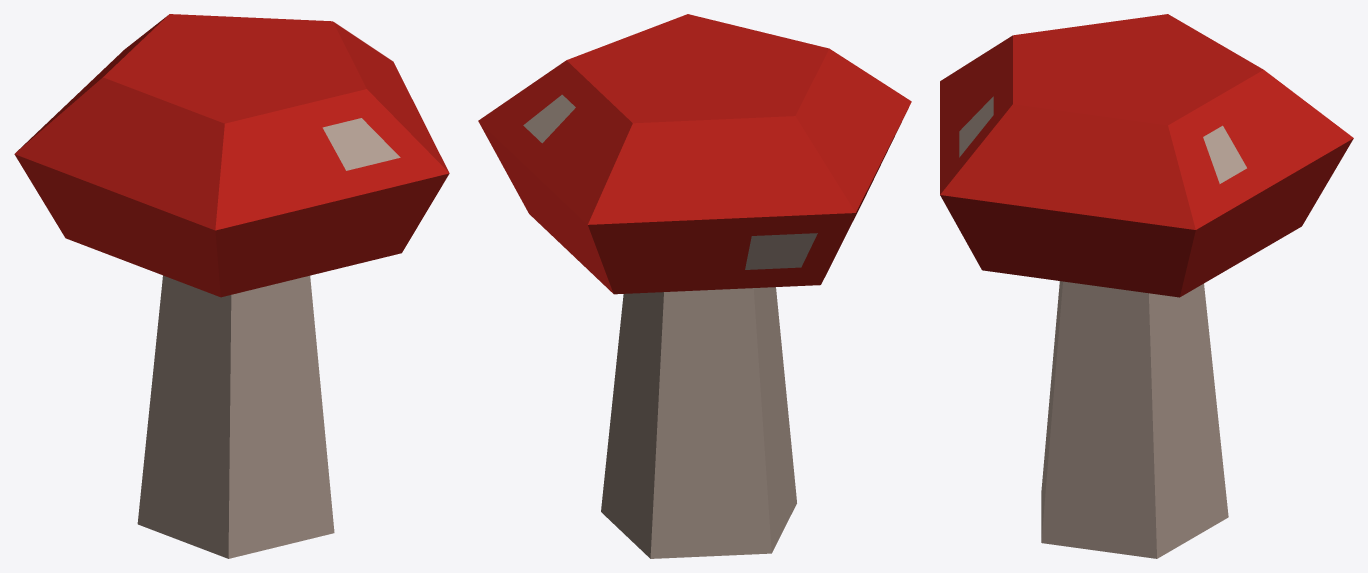
Rendered from Toadstool1.fbx.
The picture shows the model from 3 angles, left to right: view 1: azimuth 30°, elevation 25°; view 2: azimuth 150°, elevation 25°; view 3: azimuth 270°, elevation 25°; orthographic projection.
Visible parts, largest first — view 1: Toadstool1; view 2: Toadstool1; view 3: Toadstool1.
Boxes of the visible parts, bbox=[...] form: Toadstool1: bbox=[14, 14, 449, 558]; Toadstool1: bbox=[478, 14, 911, 558]; Toadstool1: bbox=[940, 14, 1353, 558].
Bounding box in the file's own units: 15.68 × 17.8 × 14.91.
